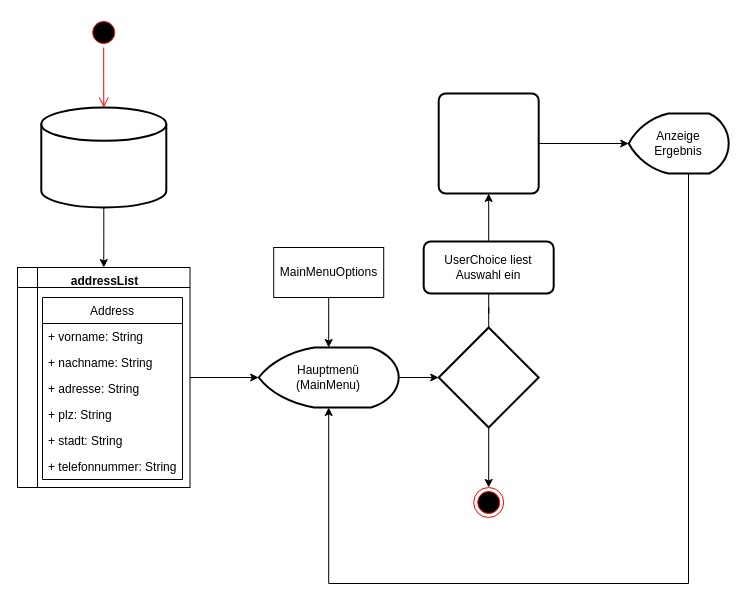
Some shapes in this 747 by 609 pixel diagram are drawn without their labels. The centre of each missing label's shape, as x and y in pixels:
ChoiceHandler ruft ausgewählte Methode auf: point (488, 143)
csv-Datei wird eingelesen: point (103, 157)
User wählt Option: point (488, 377)
